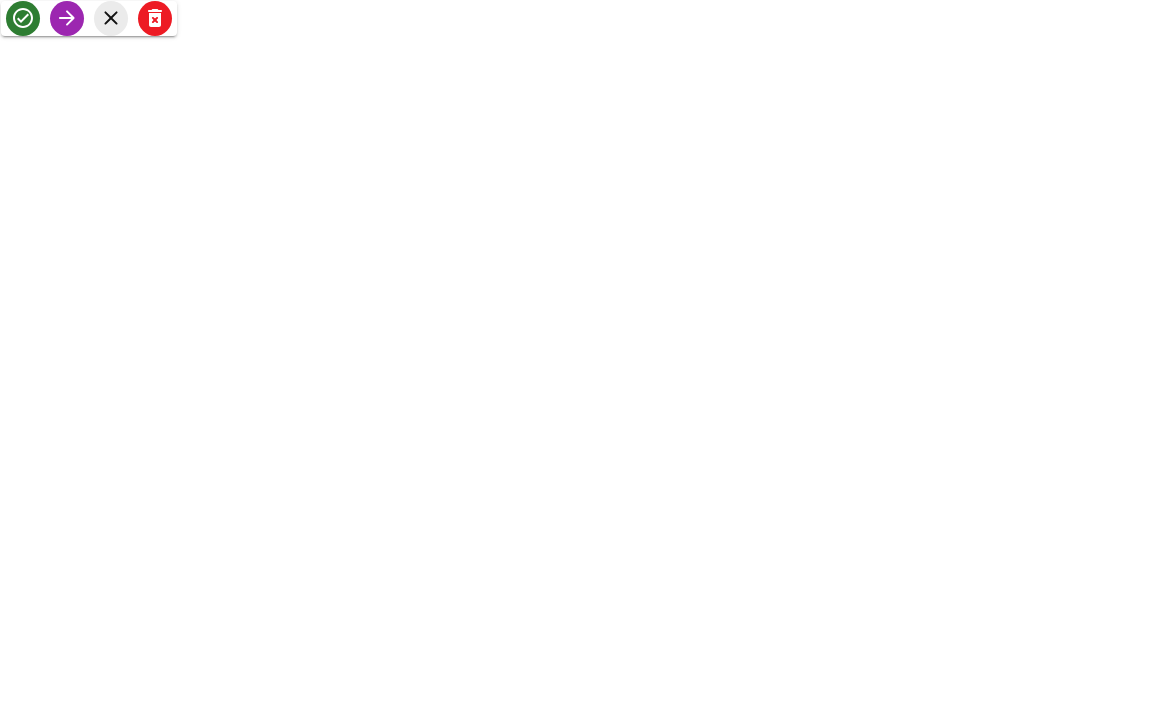
Test: OperationDetailActions - composant › Supprimer ouvre la confirmation ; Annuler la ferme sans sauvegarde
The width and height of the screenshot is (1152, 720).
Expected: the text "Voulez vous supprimer l'opération ?" is not shown
Click the button named "Supprimer l'opération" at [155, 18], box [138, 1, 172, 36]
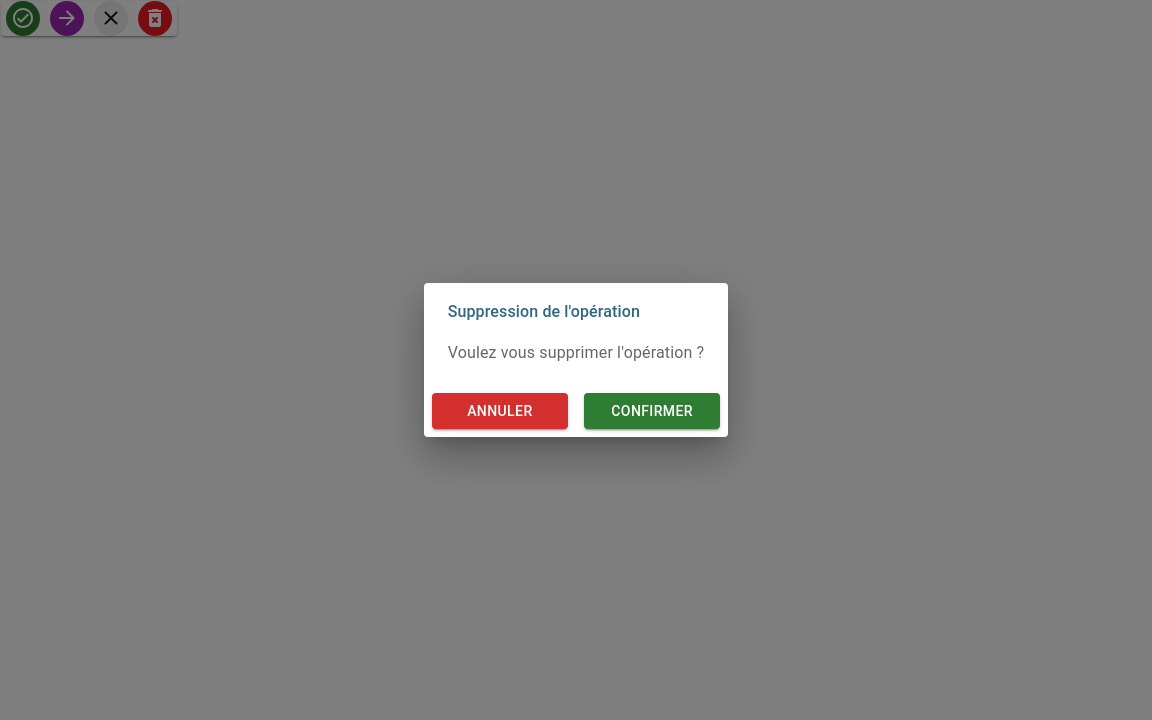
Now the text "Voulez vous supprimer l'opération ?" is shown, box [448, 340, 704, 364]
Now the heading "Suppression de l'opération" is shown, box [448, 302, 640, 321]
Click the button "Annuler" at [500, 411], box [432, 392, 568, 429]
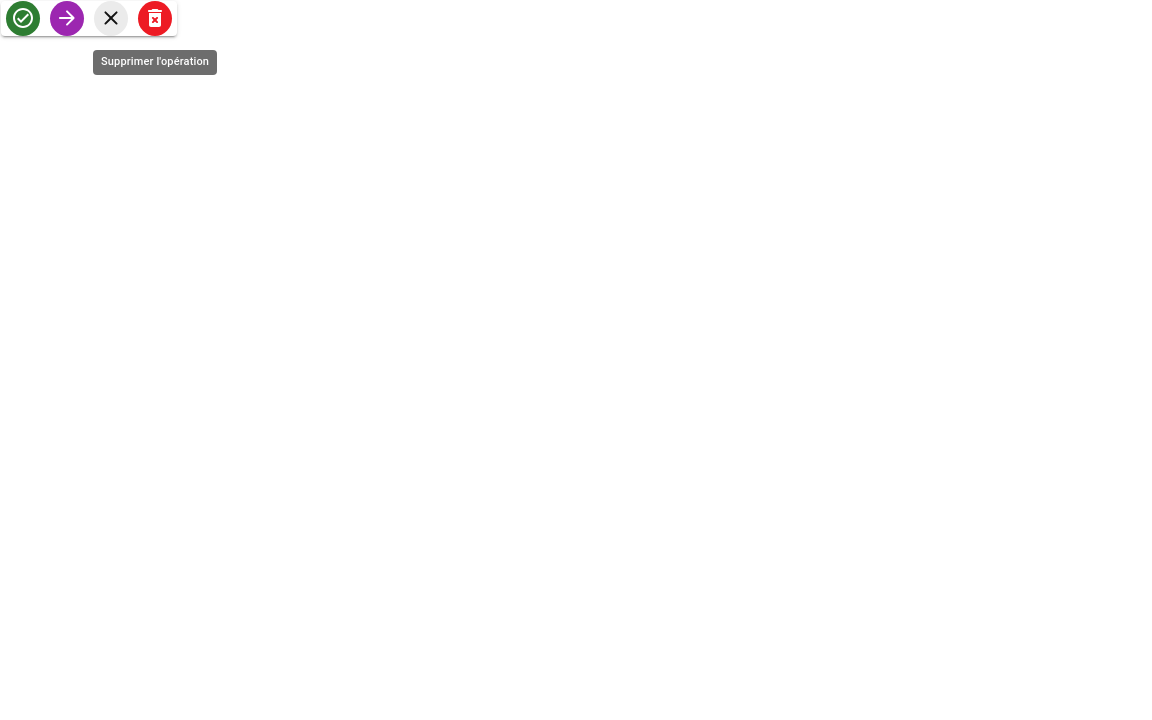
Now the text "Voulez vous supprimer l'opération ?" is gone
